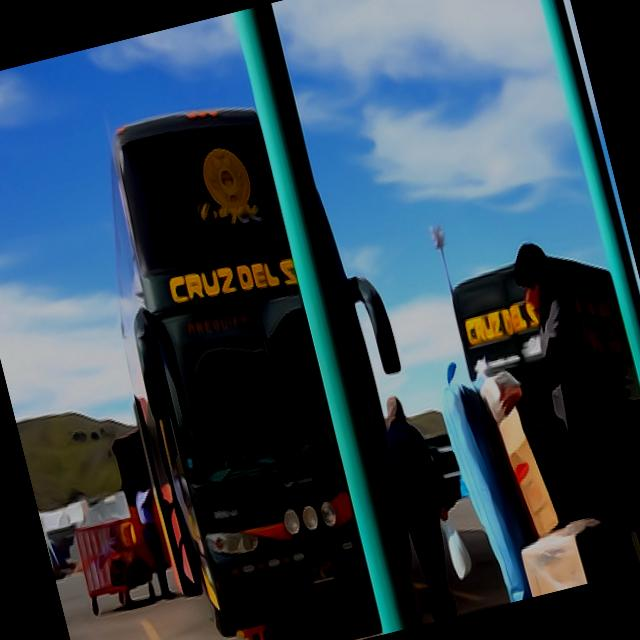Vehicle: (63, 99, 387, 640), (438, 213, 640, 599), (446, 234, 640, 598)
